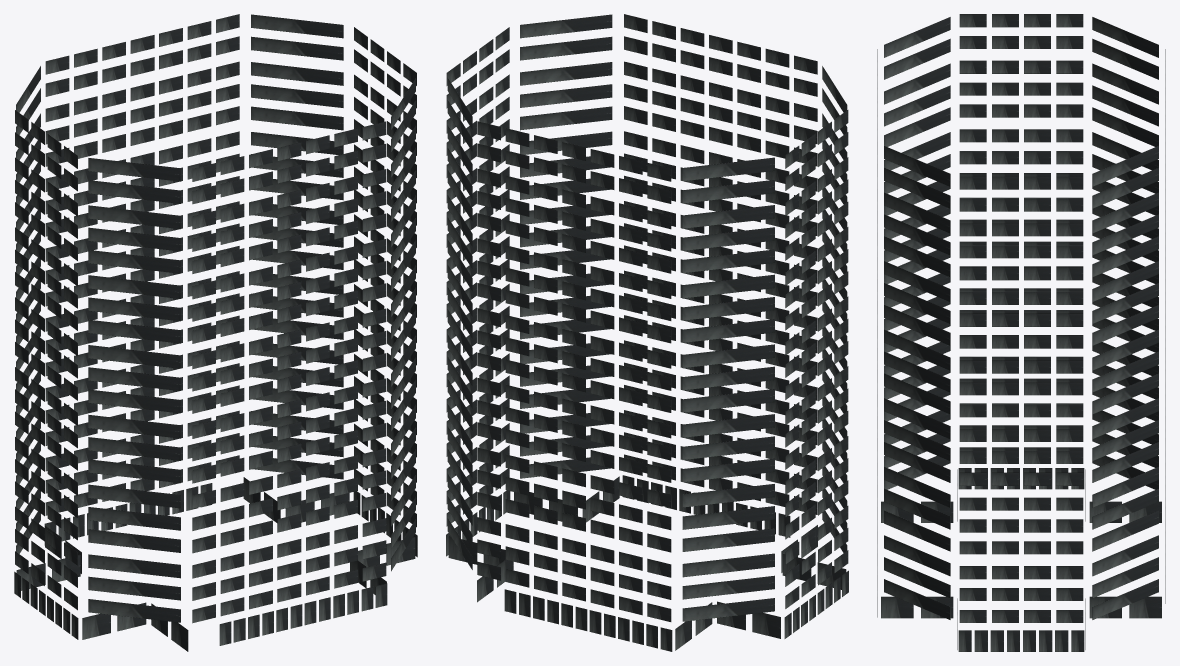
Rendered from TRANS_Building_21stores_Office.obj.
3 views of the same model, side by side, from view 1: azimuth 30°, elevation 25°; view 2: azimuth 150°, elevation 25°; view 3: azimuth 270°, elevation 25° (orthographic).
Parts seen in each view (by area): view 1: TRANS_Building_21stores_Office; view 2: TRANS_Building_21stores_Office; view 3: TRANS_Building_21stores_Office.
Boxes of the visible parts, x1=… form: TRANS_Building_21stores_Office: x1=14, y1=14, x2=417, y2=651; TRANS_Building_21stores_Office: x1=446, y1=14, x2=848, y2=651; TRANS_Building_21stores_Office: x1=877, y1=14, x2=1165, y2=651.
Bounding box in the file's own units: 15.69 × 21.38 × 11.75.
